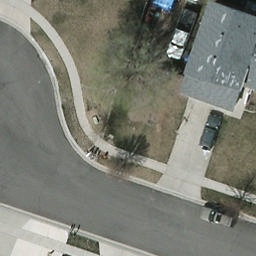car: (200, 113, 226, 151), (199, 205, 235, 228)
pickup: (166, 8, 198, 60)
